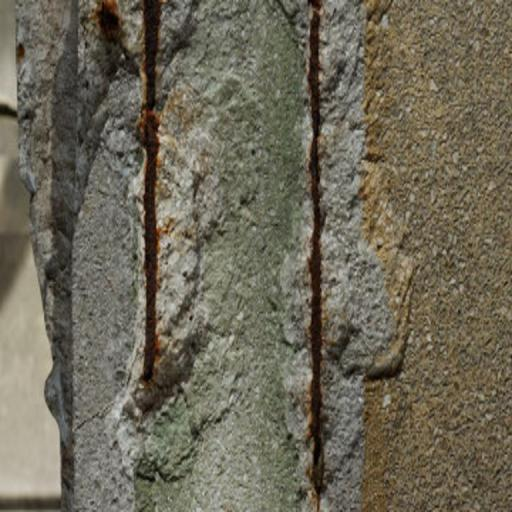spalling: (92, 0, 214, 480), (258, 0, 370, 502)
